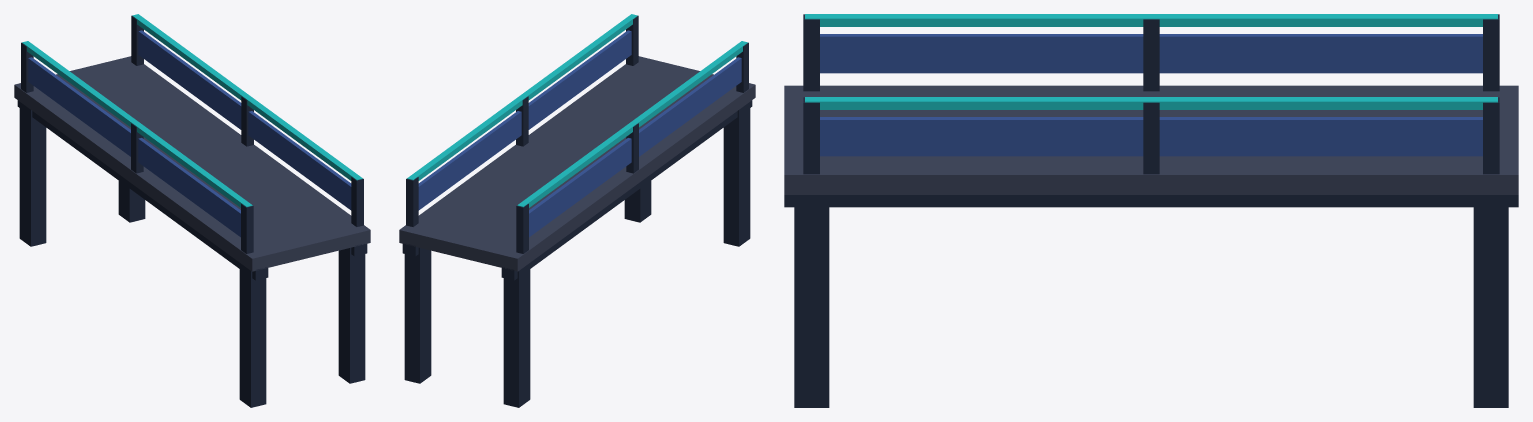
File: Neon_Skybridge_Standard.glb
3 views of the same model, side by side, from view 1: azimuth 30°, elevation 25°; view 2: azimuth 150°, elevation 25°; view 3: azimuth 270°, elevation 25° (orthographic). The views are drawn at different scales.
Visible parts, largest first — view 1: Neon_Skybridge_Standard; view 2: Neon_Skybridge_Standard; view 3: Neon_Skybridge_Standard.
Part boxes in pixels (x1,y1,x2,y2): Neon_Skybridge_Standard: [14, 14, 370, 407]; Neon_Skybridge_Standard: [399, 14, 755, 407]; Neon_Skybridge_Standard: [784, 14, 1518, 407].
Size of the model in its own units: 2.3 by 3.69 by 8.
